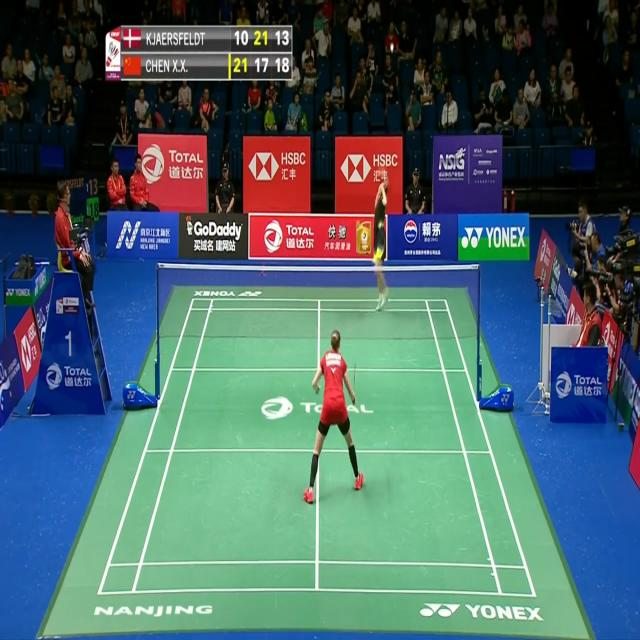Player1: (299, 323, 365, 509)
Player2: (368, 178, 394, 311)
